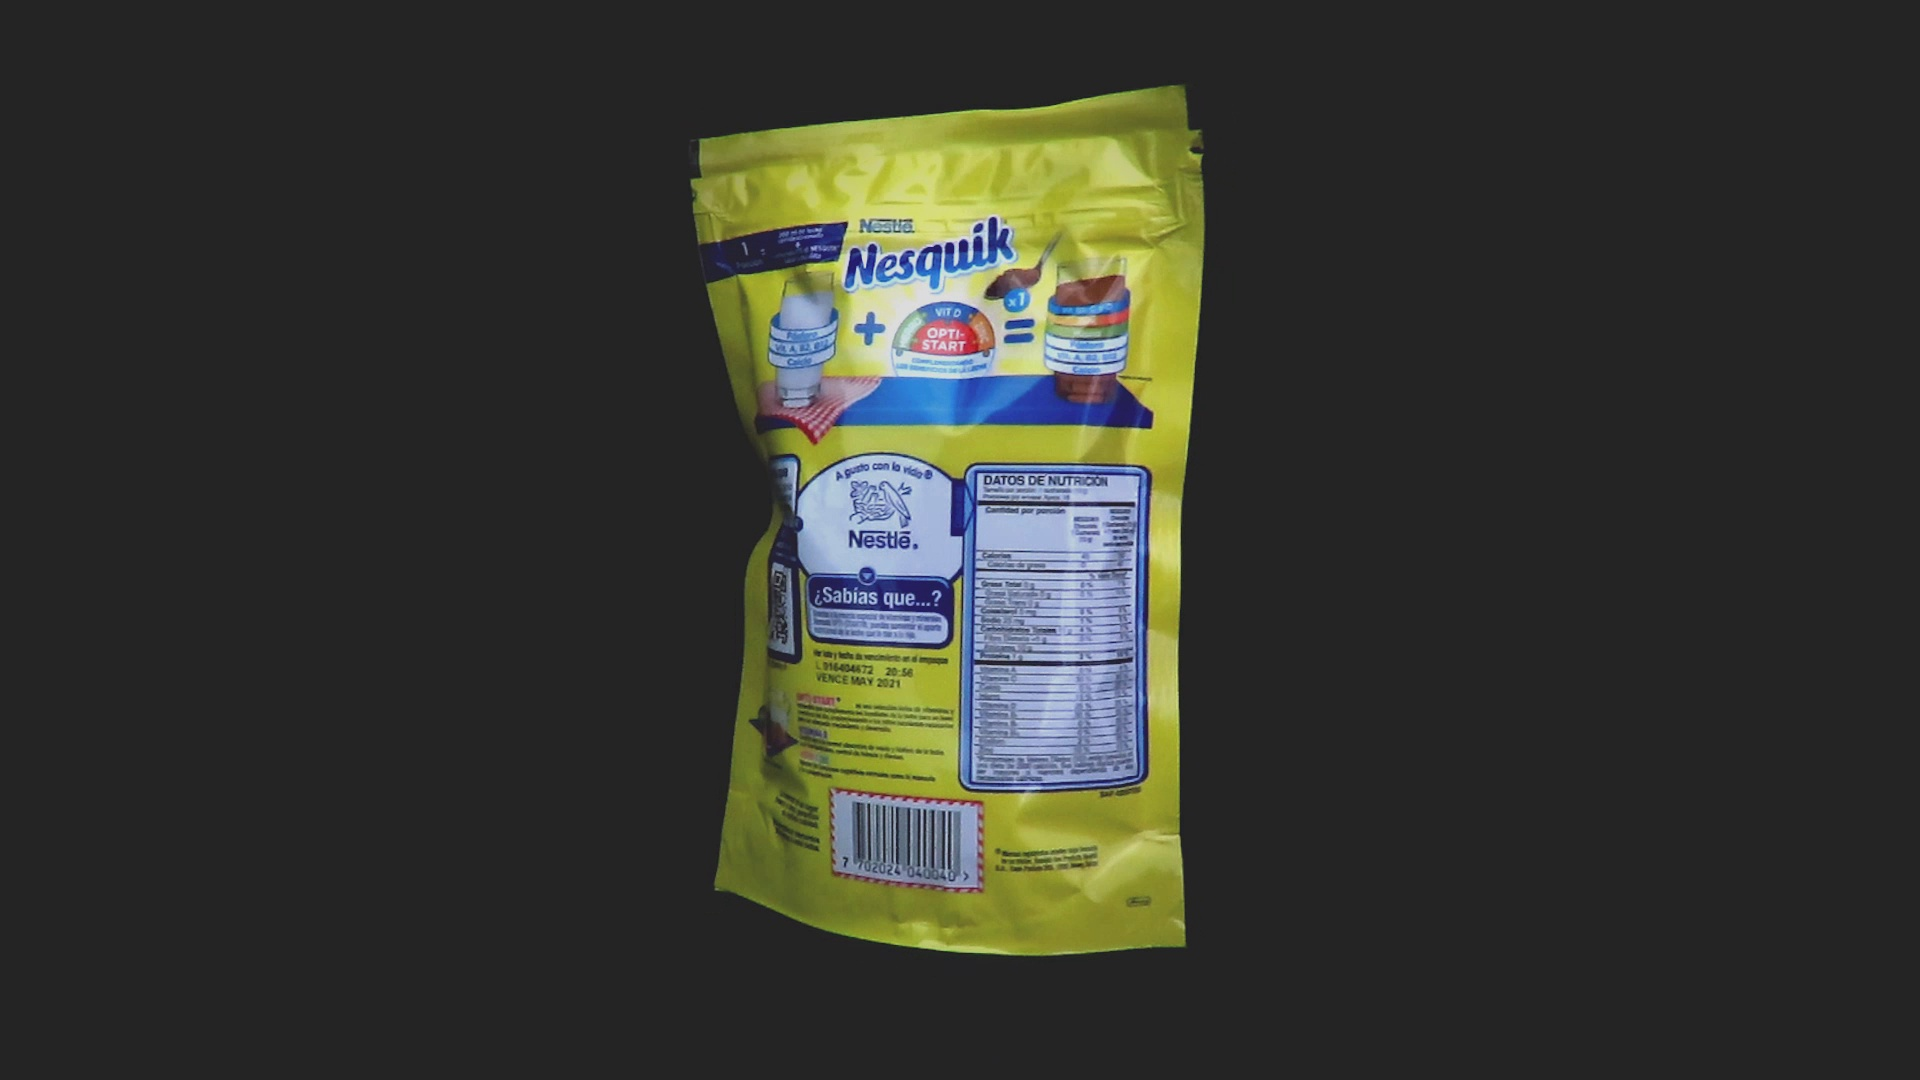COL0170303DYP20000: (684, 79, 1211, 963)
